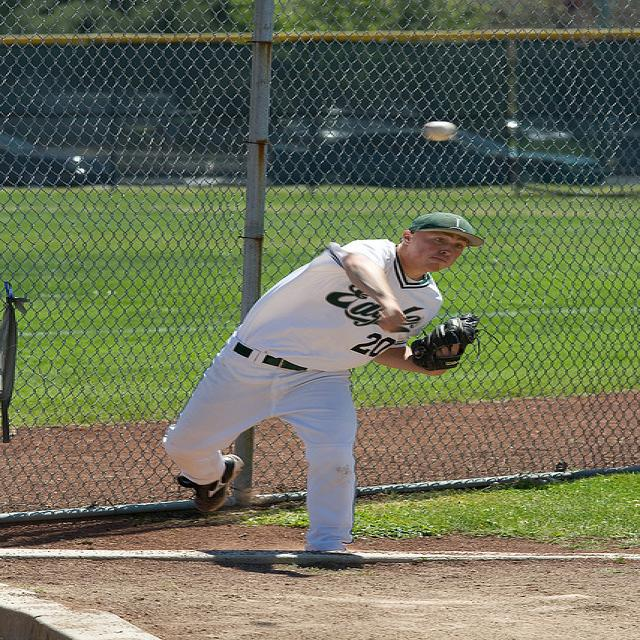Vehicle: (277, 129, 612, 182), (0, 134, 119, 187)
